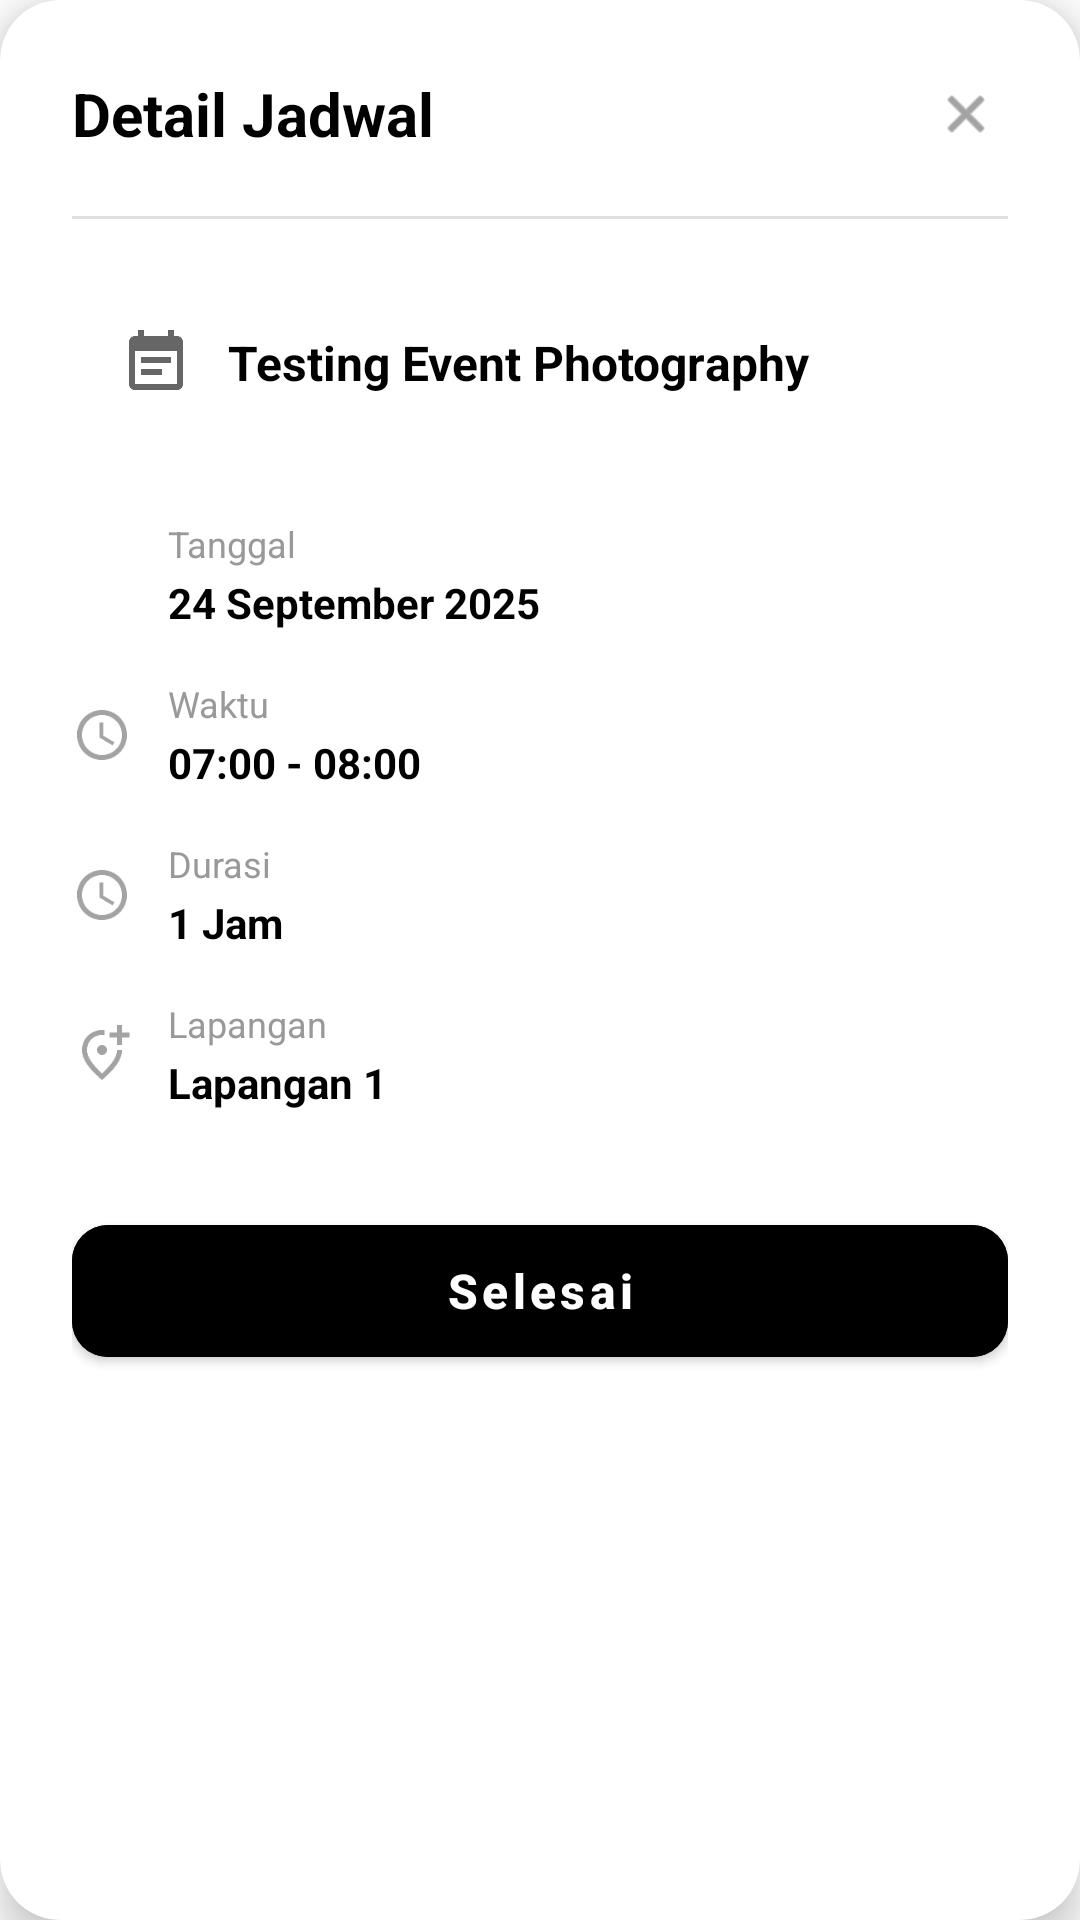

Screen size 1080w x 1920h. Icon name, then its box in pixels as (left=x1, top=y1, right=x2, bottom=y2):
close clear cancel: (left=947, top=95, right=985, bottom=133)
location: (left=82, top=1025, right=130, bottom=1080)
time: (left=77, top=710, right=127, bottom=760), (left=77, top=870, right=127, bottom=920)
